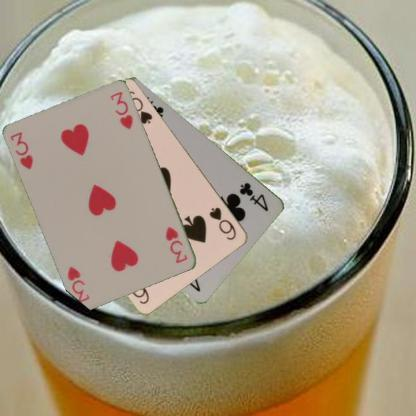3h: (7, 128, 35, 172), (163, 224, 189, 265)
4c: (236, 180, 270, 214)
6s: (207, 204, 238, 242)
